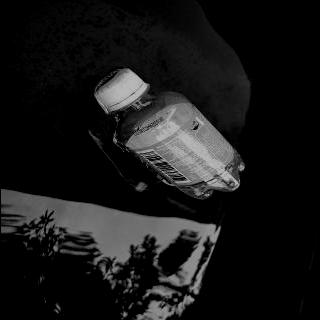bottle: (92, 68, 248, 200)
